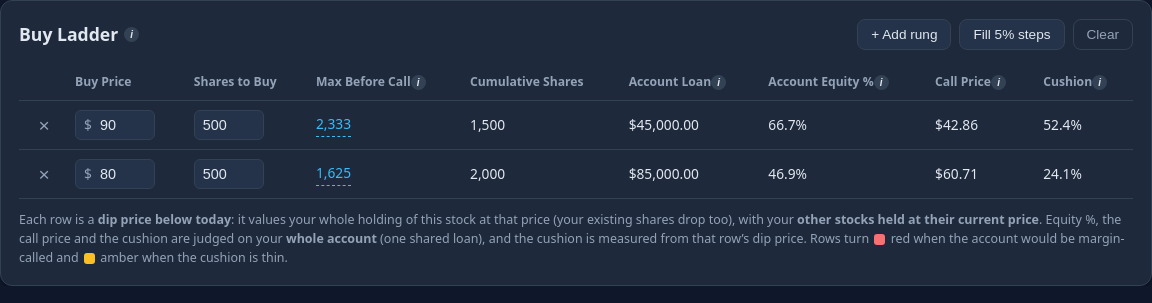
LadderTable inputs — leading-zero / empty-field bug › the × button removes that rung (and is the row’s first cell)
This screenshot has width=1152, height=303.
Expected: the number of fields named "Buy price" is 2, [92,111,154,139]; [92,160,154,188]
Step 1. Click the button named "Remove rung" → (44, 125), box [29,110,59,140]
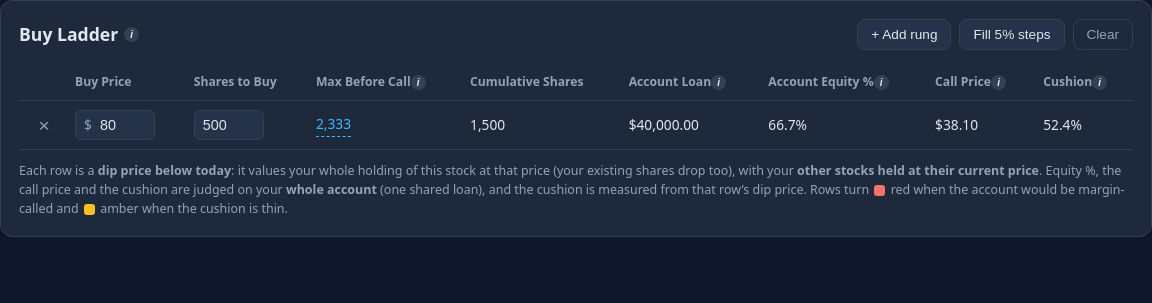
Expected: the number of fields named "Buy price" is 1, [92,111,154,139]
